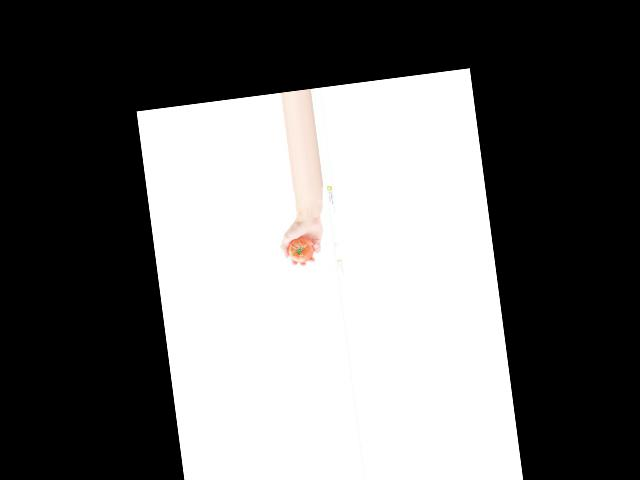tomato: (287, 235, 316, 264)
